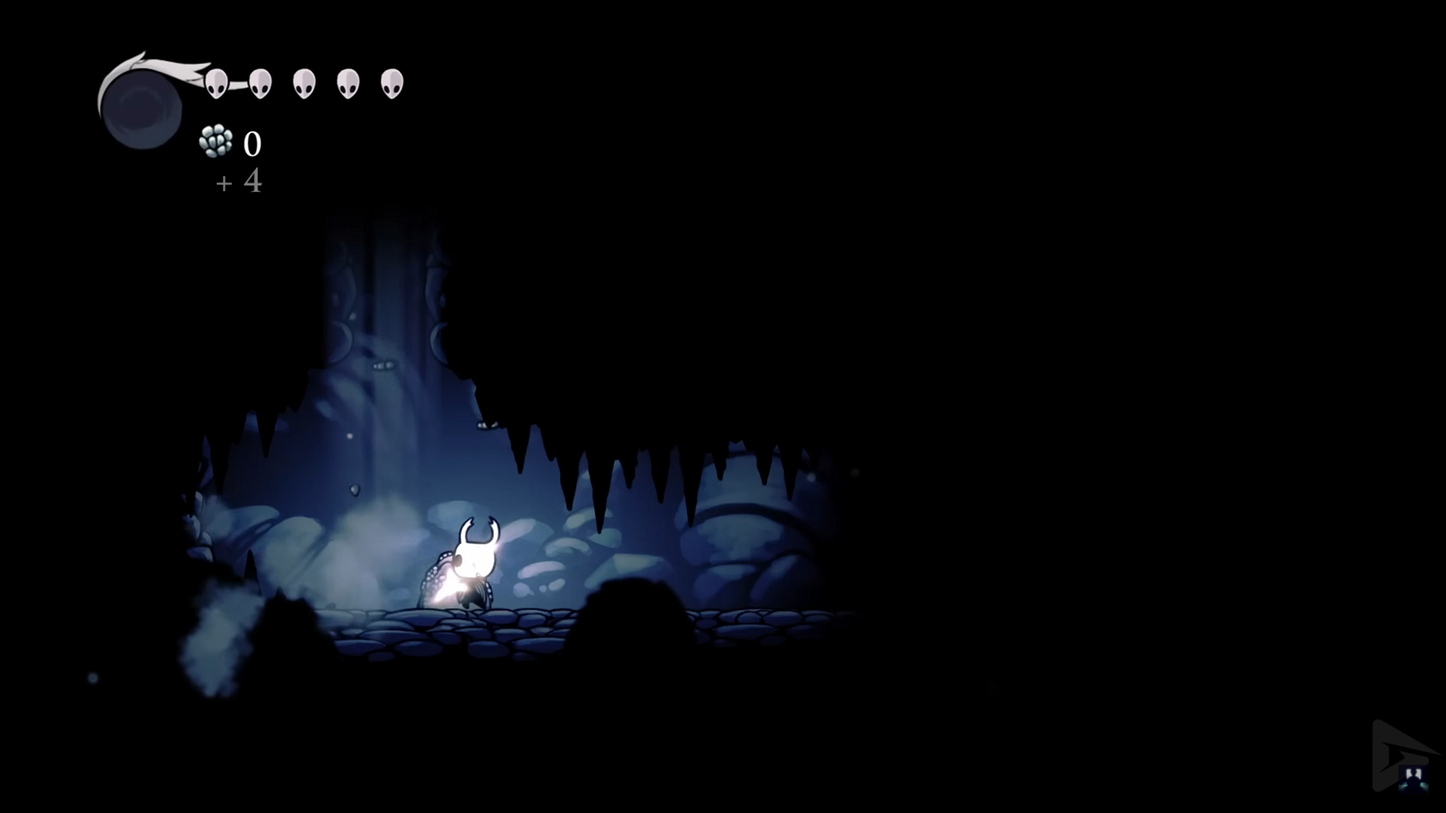HK: (441, 516, 504, 614)
